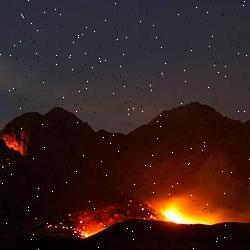fire: (26, 186, 219, 244)
